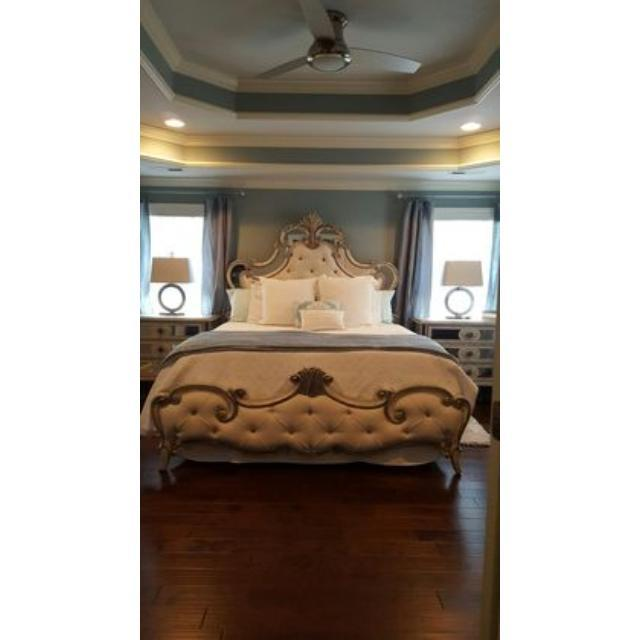bed: (142, 212, 478, 473)
curtain: (392, 199, 434, 324), (201, 195, 236, 318), (140, 196, 150, 314), (488, 204, 498, 309)
dresser: (412, 319, 494, 386), (140, 318, 210, 381)
lamp: (442, 261, 482, 318), (151, 258, 190, 312)
light: (259, 0, 421, 78)
rug: (481, 436, 500, 639), (461, 416, 491, 446)
